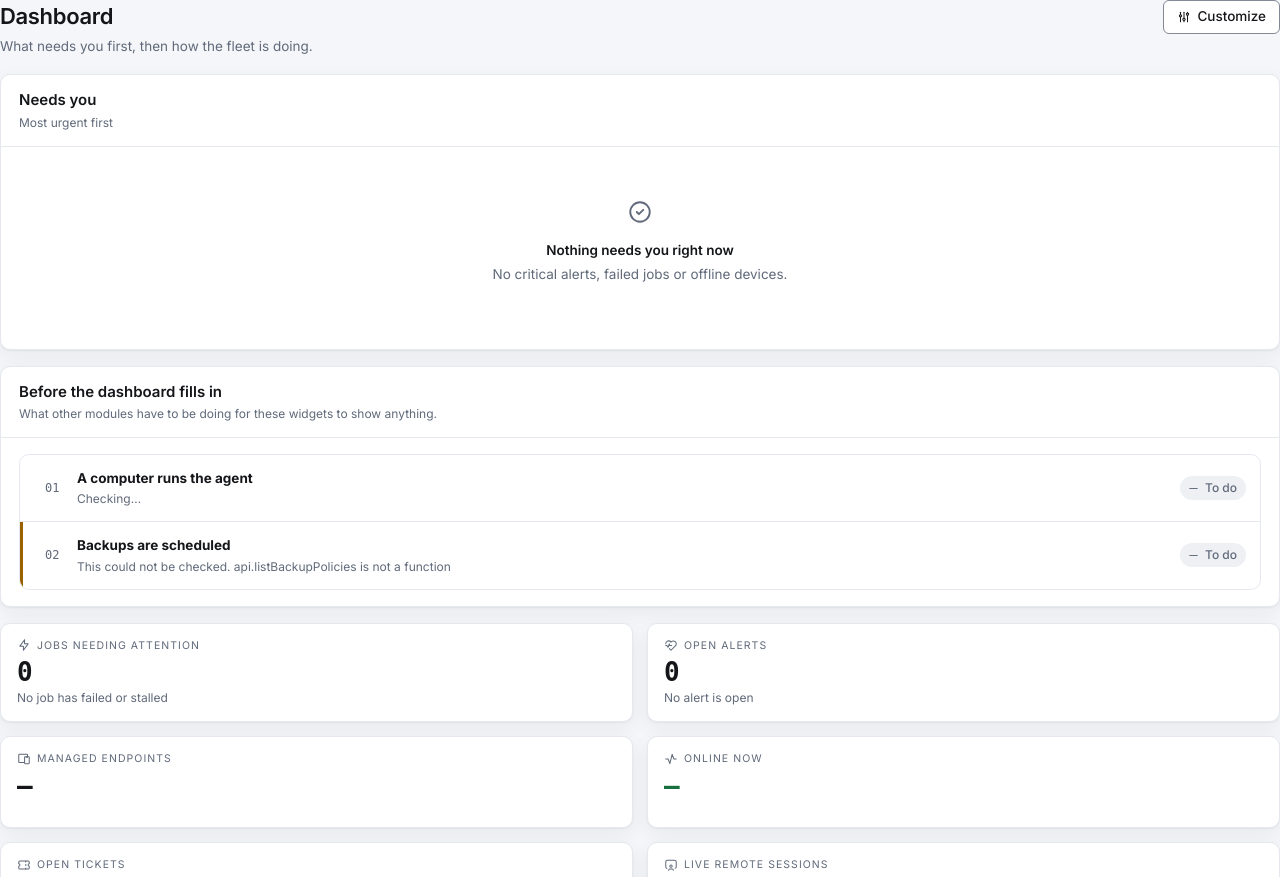
Scenario: customizing the dashboard › keeps the arrangement on screen when the save fails, and says so
This screenshot has width=1280, height=877.
Click the button "Customize".
click(1222, 17)  # box [1163,0,1279,34]
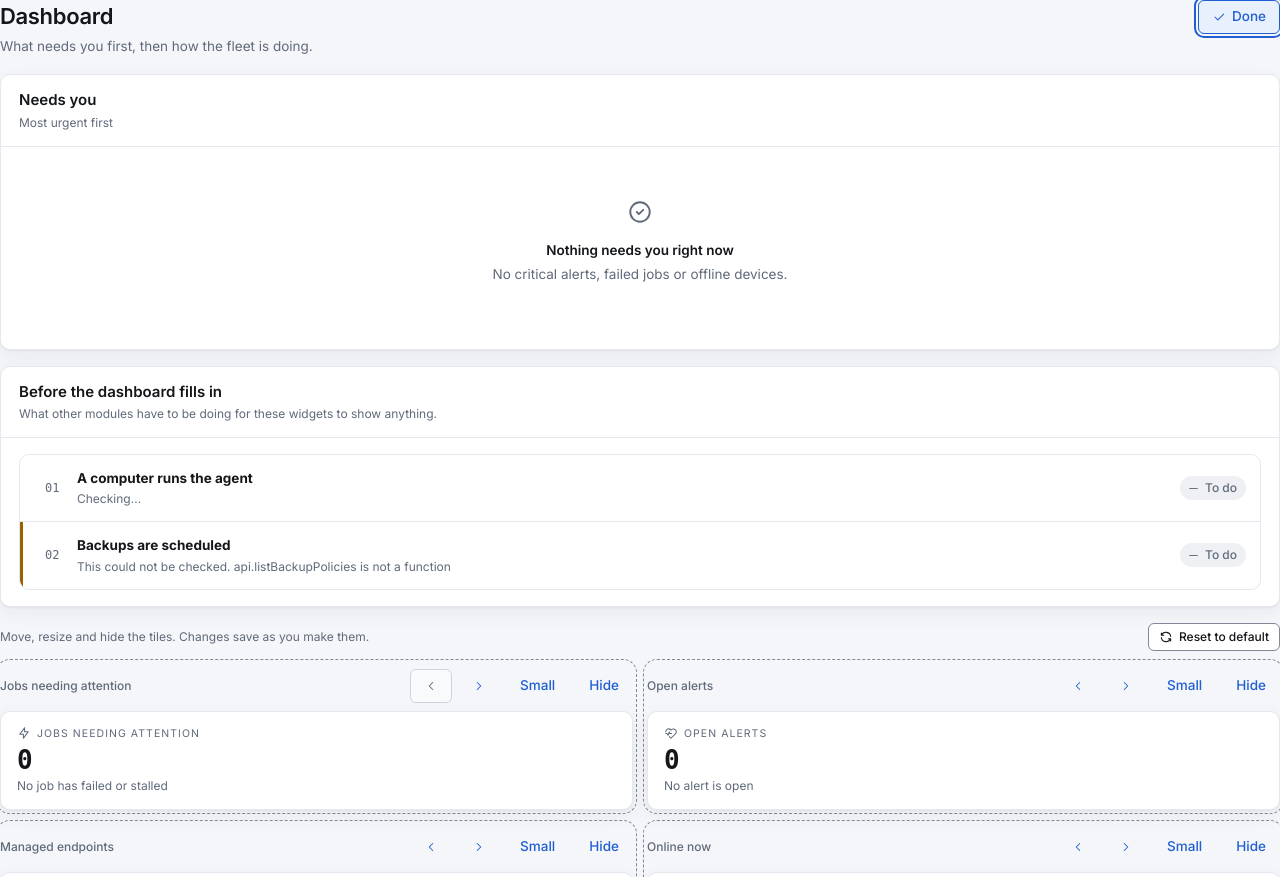
Click the button named "Move Open alerts earlier".
click(1078, 686)  # box [1057,668,1099,702]
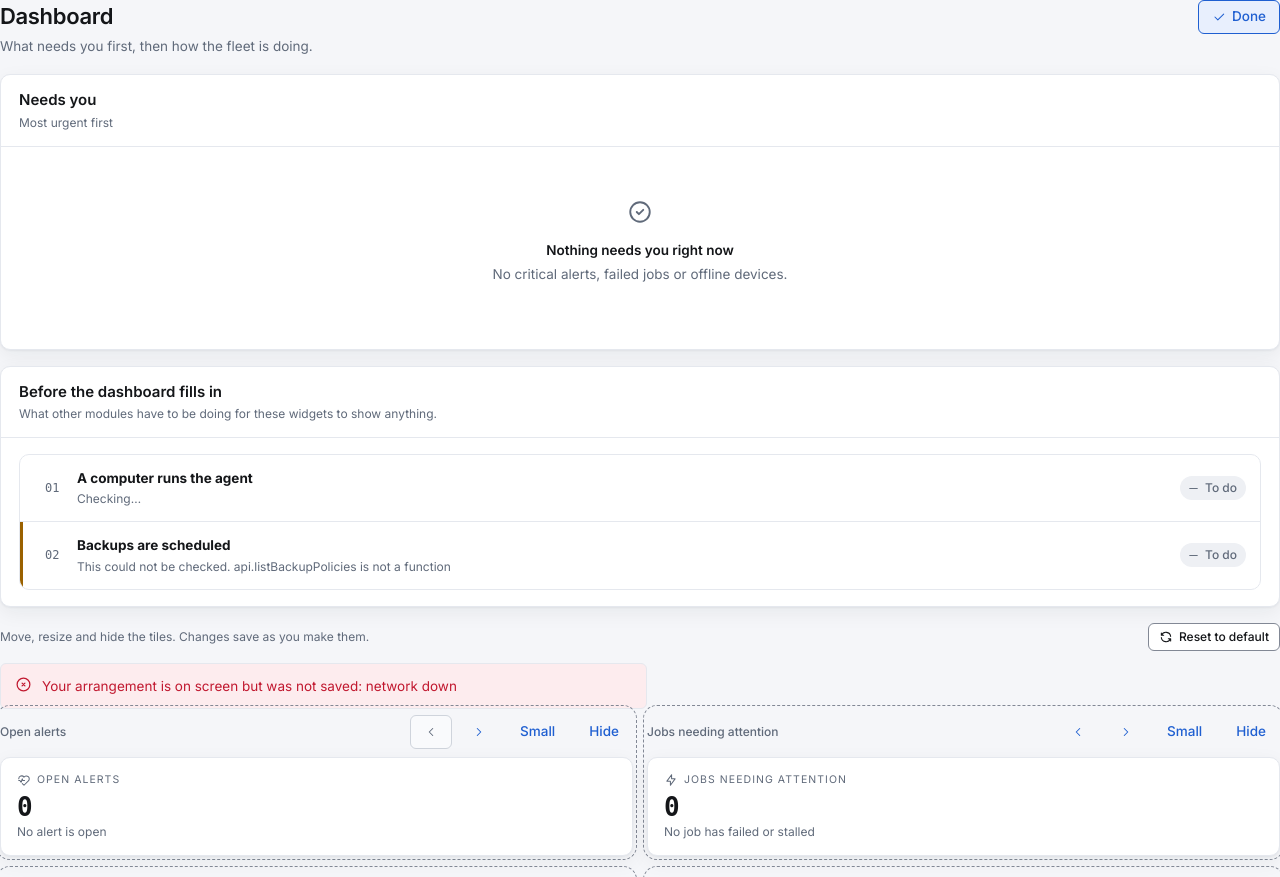
Now the message shows "was not saved", box [42,678,457,694]
